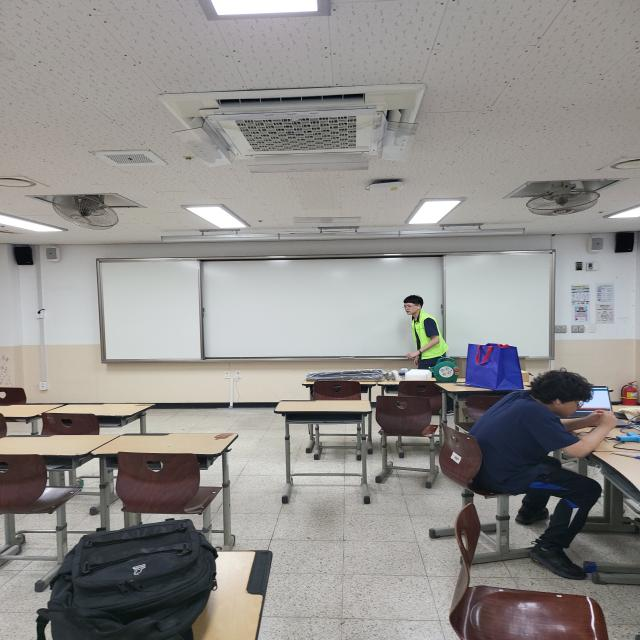weston_spy: (410, 313, 452, 369)
